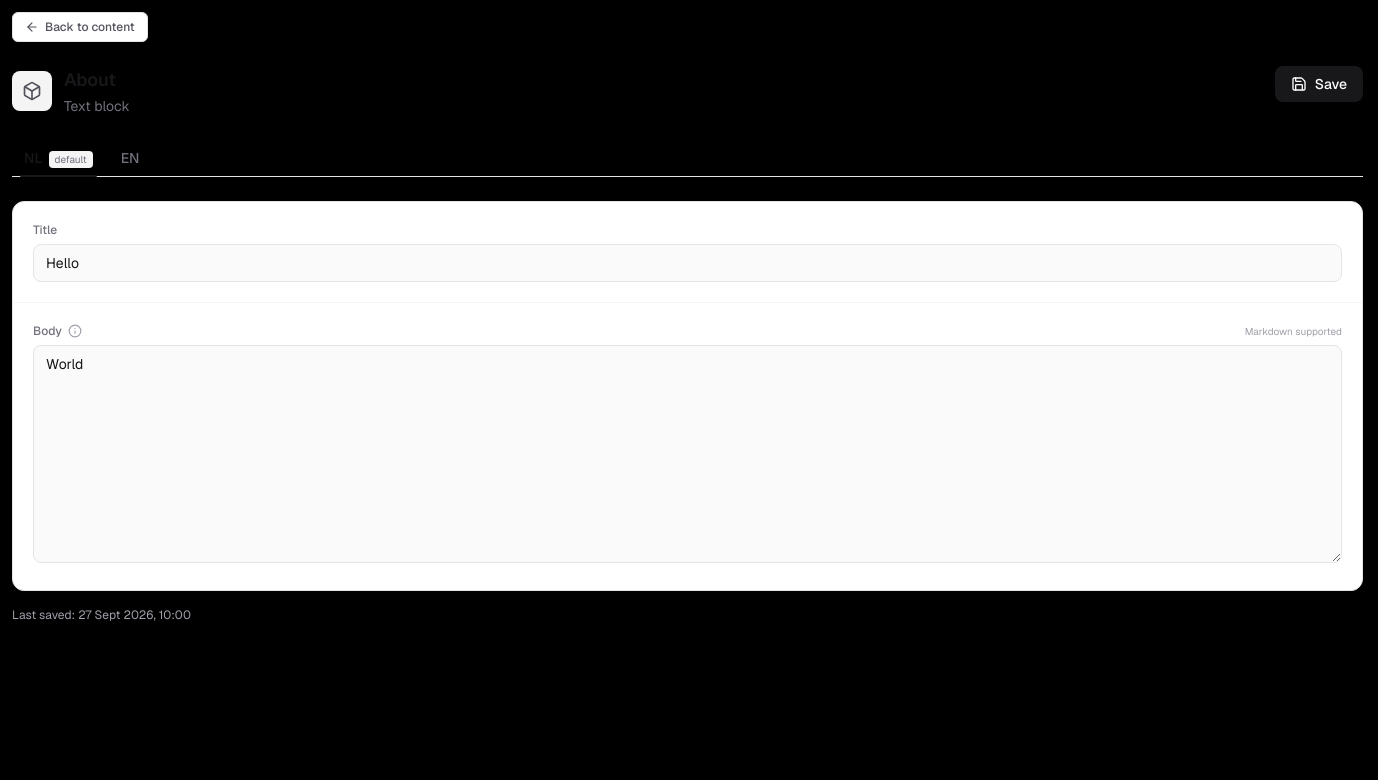
Test: ServiceEditor save errors › joins pydantic-style detail messages
Type " more" into the text box with placeholder "Write content here…" at (688, 454), box [33,345,1342,563]
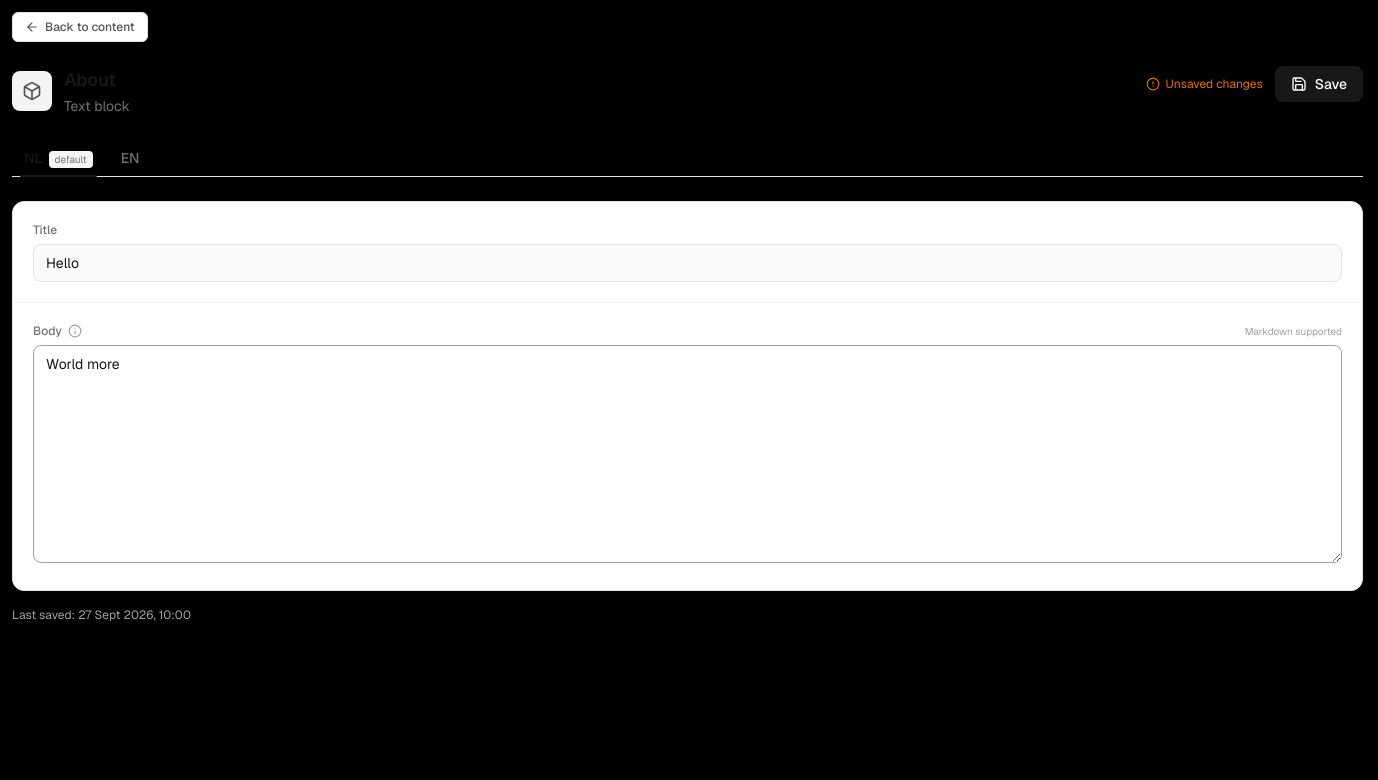
Click the button "Save" at (1319, 84), box [1275,66,1363,102]
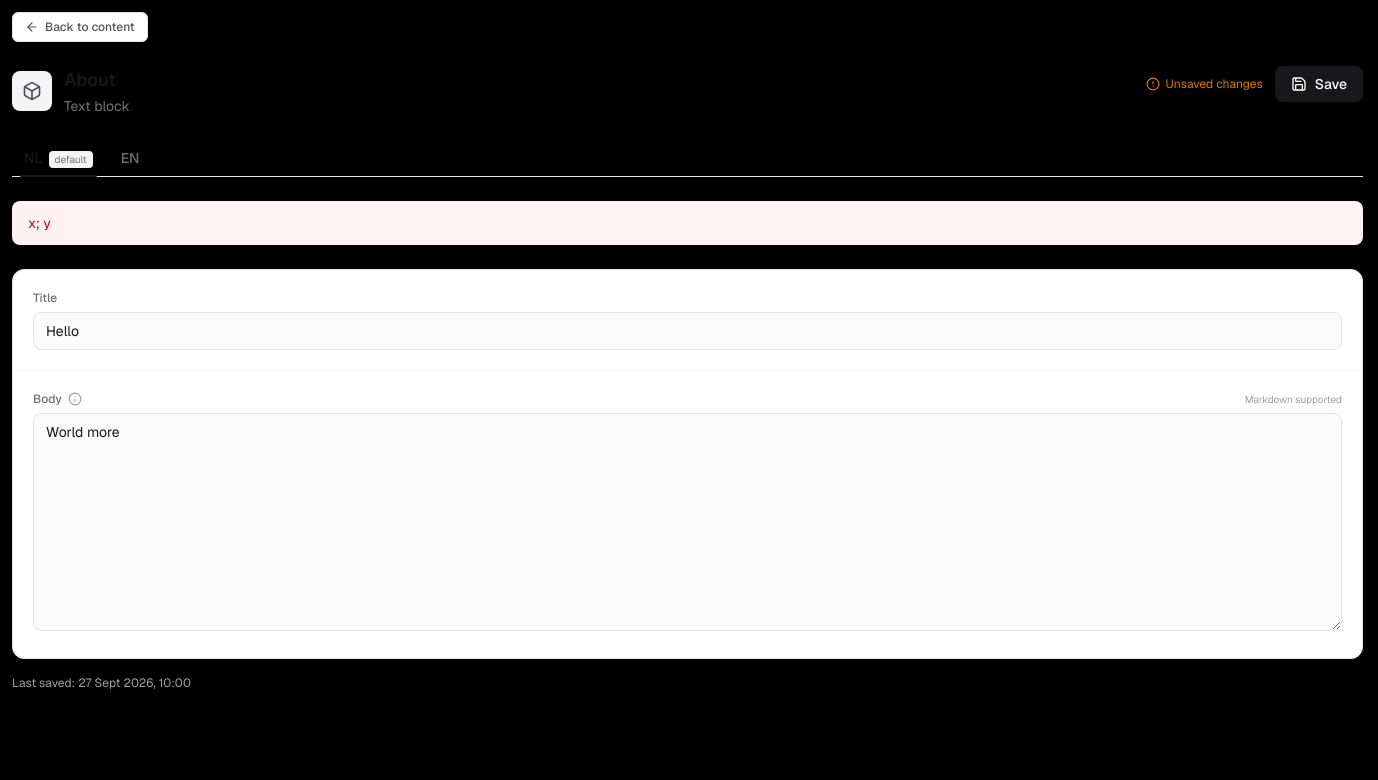
expect the text "x; y" is shown: met, box [12,201,1363,245]
